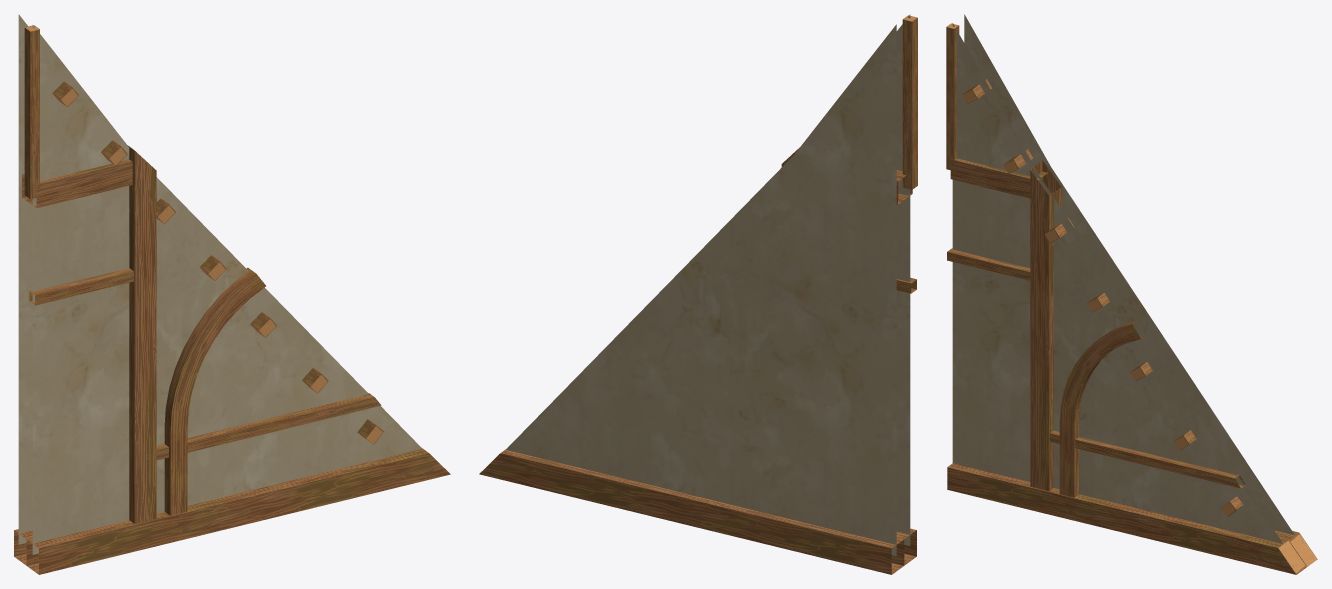
The model's file is Roof_Front_Brick8_Half_R.gltf.
3 renders of one model, left to right at view 1: azimuth 30°, elevation 25°; view 2: azimuth 150°, elevation 25°; view 3: azimuth 330°, elevation 25°, orthographic. The views are drawn at different scales.
Parts seen in each view (by area): view 1: Roof_Front_Brick8_Half_R; view 2: Roof_Front_Brick8_Half_R; view 3: Roof_Front_Brick8_Half_R.
Part boxes in pixels (x1,y1,x2,y2): Roof_Front_Brick8_Half_R: (14, 14, 450, 574); Roof_Front_Brick8_Half_R: (479, 14, 917, 574); Roof_Front_Brick8_Half_R: (946, 14, 1317, 574).
Size of the model in its own units: 4.35 by 5.45 by 0.4896.
2 materials, 2 textured.
